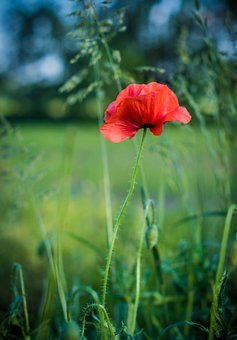flower: (73, 63, 208, 340)
